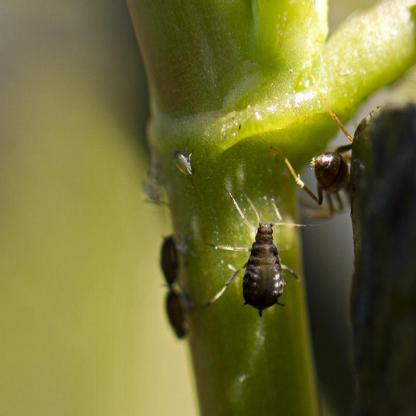aphid: (220, 176, 303, 330), (284, 112, 380, 223), (149, 220, 195, 291), (149, 280, 200, 342), (168, 144, 203, 180)
